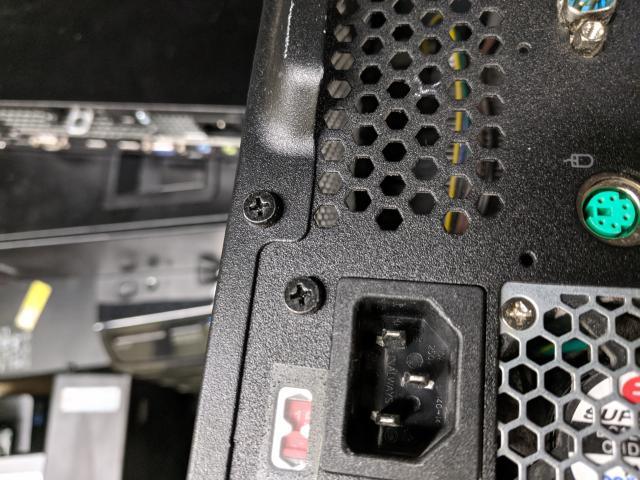CRS: (239, 189, 281, 228), (284, 278, 321, 313), (501, 296, 538, 331)
